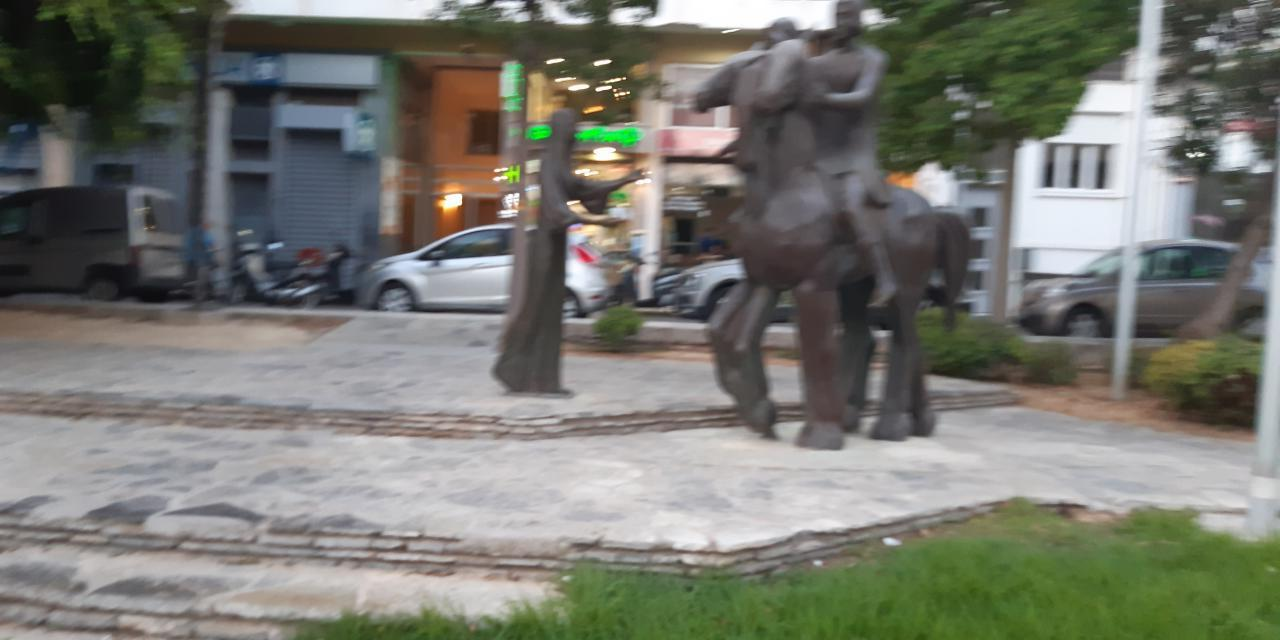Aretousa: (493, 1, 971, 455)
